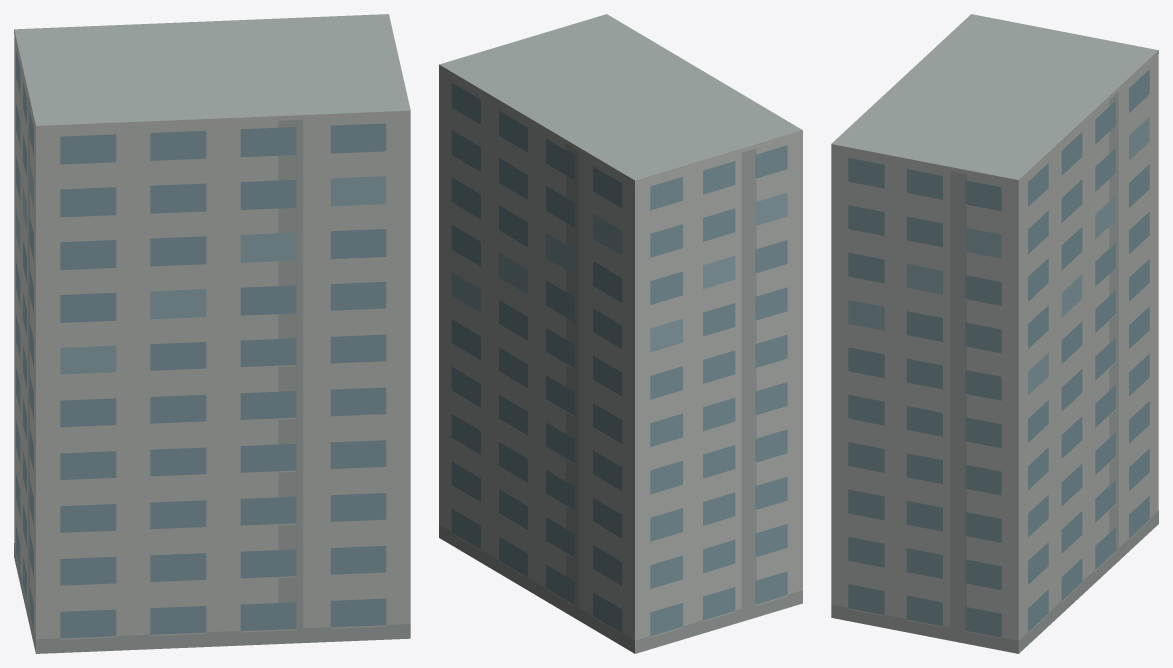
Rendered from residential-7f89ad32-01c6-46a9-82b8-0f1c6edc5b23.glb.
The picture shows the model from 3 angles, left to right: view 1: azimuth 30°, elevation 25°; view 2: azimuth 150°, elevation 25°; view 3: azimuth 270°, elevation 25°; orthographic projection. The views are drawn at different scales.
Visible parts, largest first — view 1: residential-7f89ad32-01c6-46a9-82b8-0f1c6edc5b23.tmp; view 2: residential-7f89ad32-01c6-46a9-82b8-0f1c6edc5b23.tmp; view 3: residential-7f89ad32-01c6-46a9-82b8-0f1c6edc5b23.tmp.
Part boxes in pixels (<box>): residential-7f89ad32-01c6-46a9-82b8-0f1c6edc5b23.tmp: <box>14,14,410,653</box>; residential-7f89ad32-01c6-46a9-82b8-0f1c6edc5b23.tmp: <box>439,14,802,653</box>; residential-7f89ad32-01c6-46a9-82b8-0f1c6edc5b23.tmp: <box>831,14,1158,653</box>.
Bounding box in the file's own units: 21.06 × 28 × 17.55.
